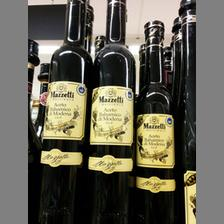Essig: (37, 0, 86, 220), (88, 0, 136, 224), (138, 20, 178, 224)
